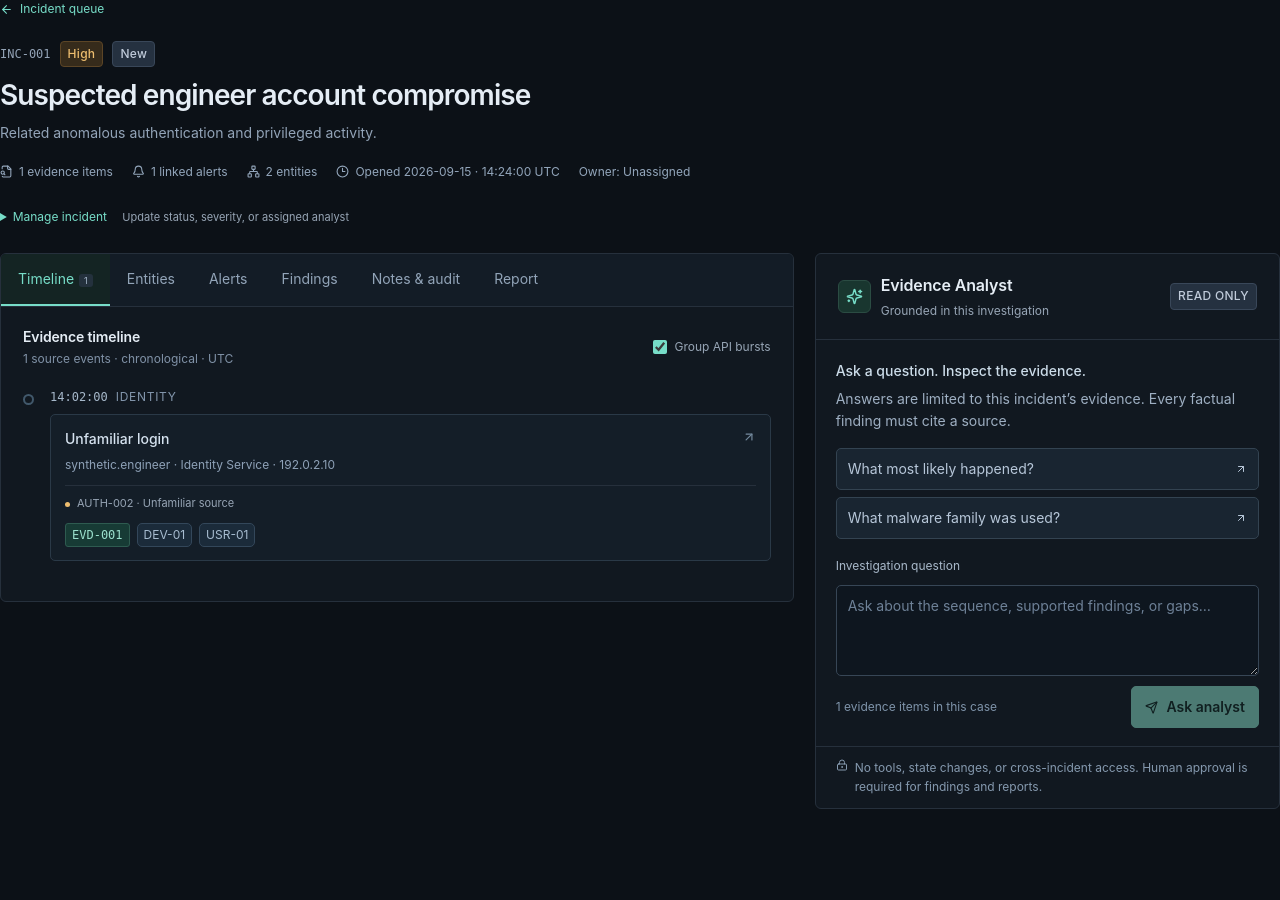
Test: investigation evidence workflow › renders the incident and opens the actual source event from a timeline citation
Expected: the heading "Suspected engineer account compromise" is shown, [0,78,530,112]
Click the button with aria-label "Inspect evidence EVD-001": coordinates (97, 535) [65,523,130,547]
(page scrolled)
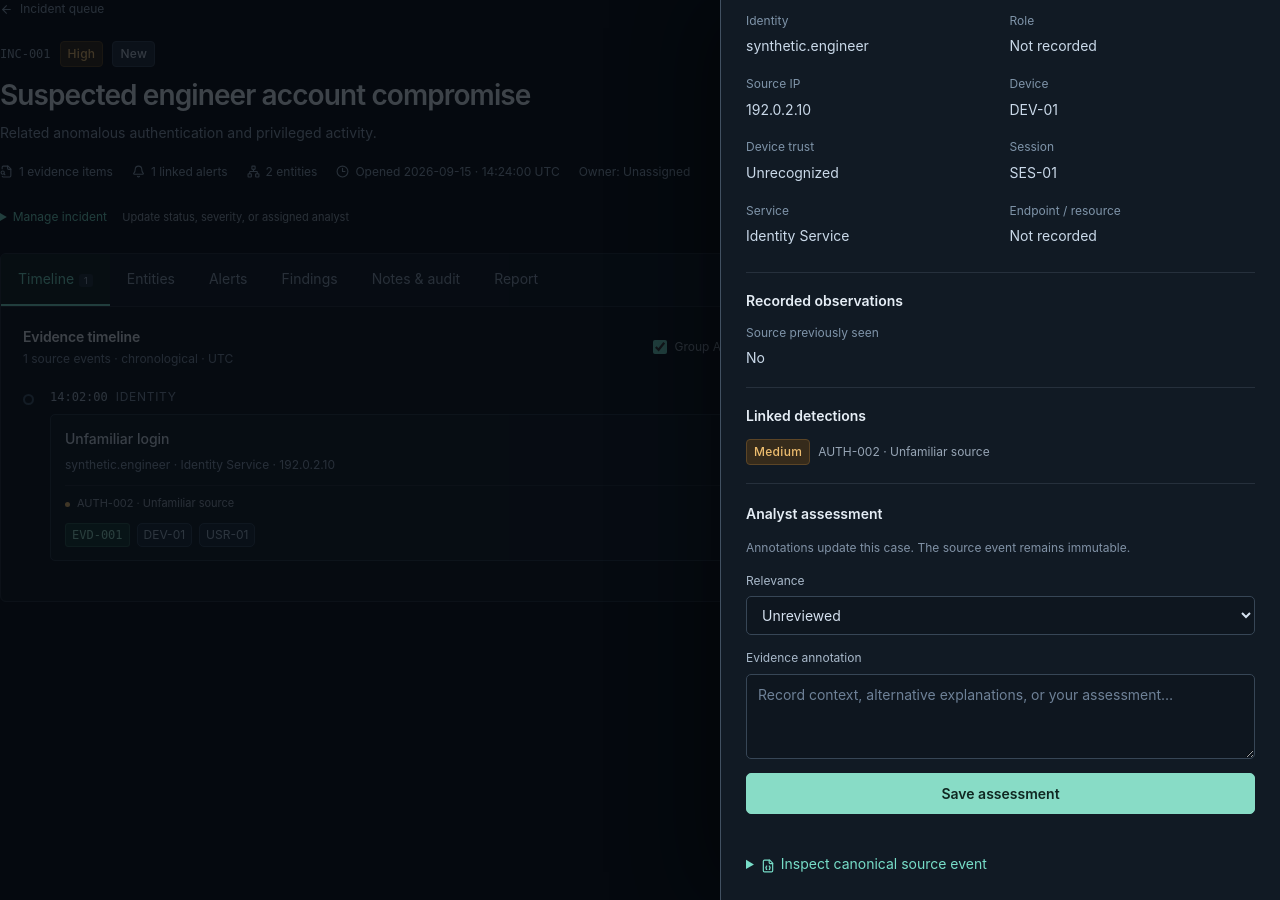
Now the text "synthetic.engineer" is shown, box [746,38,869,54]
Now the text "192.0.2.10" is shown, box [746,101,811,118]
Press Escape
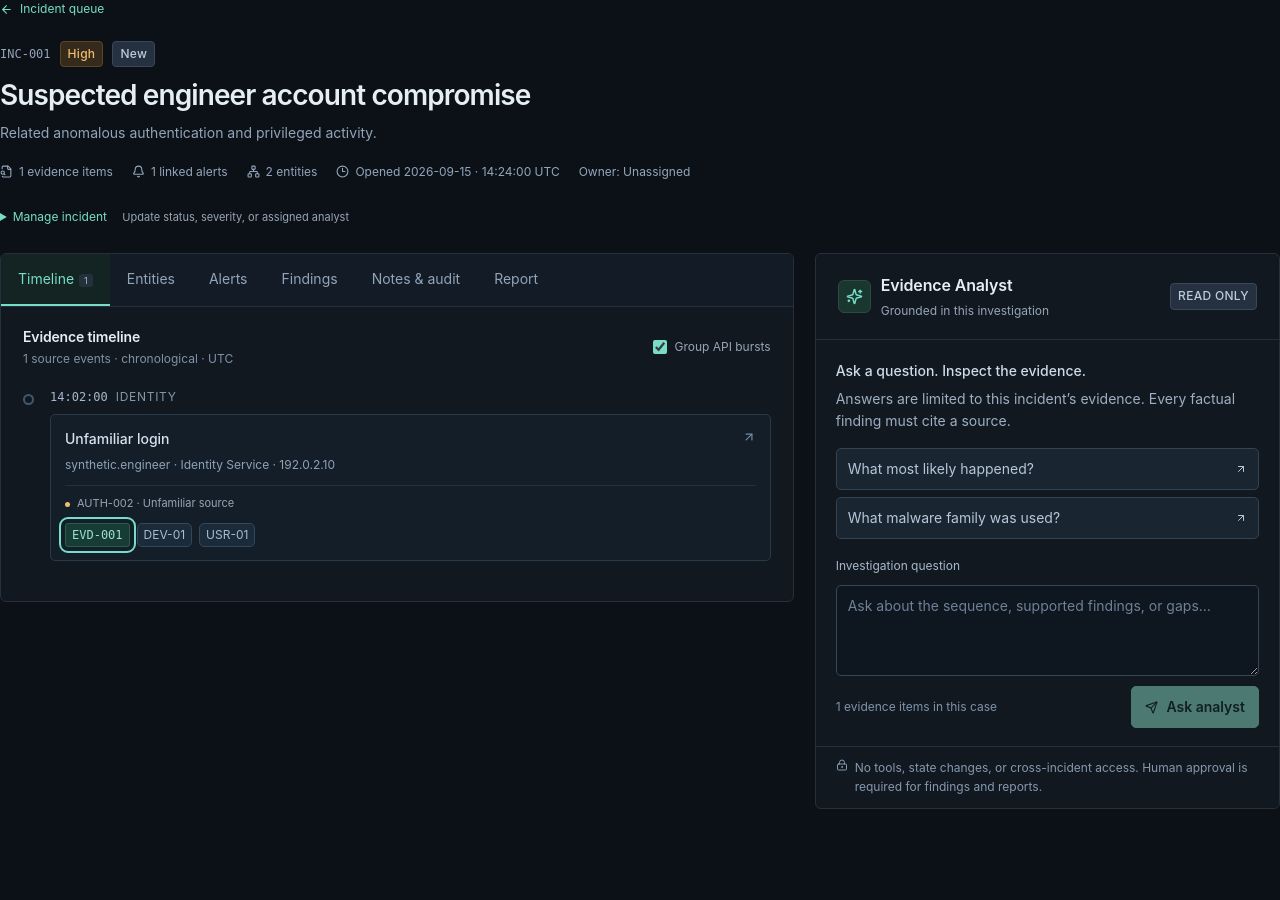
Now the dialog is gone
